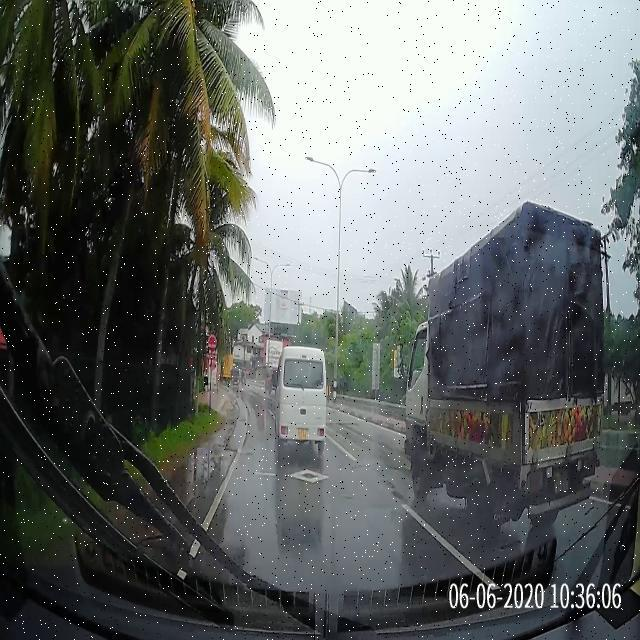diamond: (221, 466, 388, 487)
